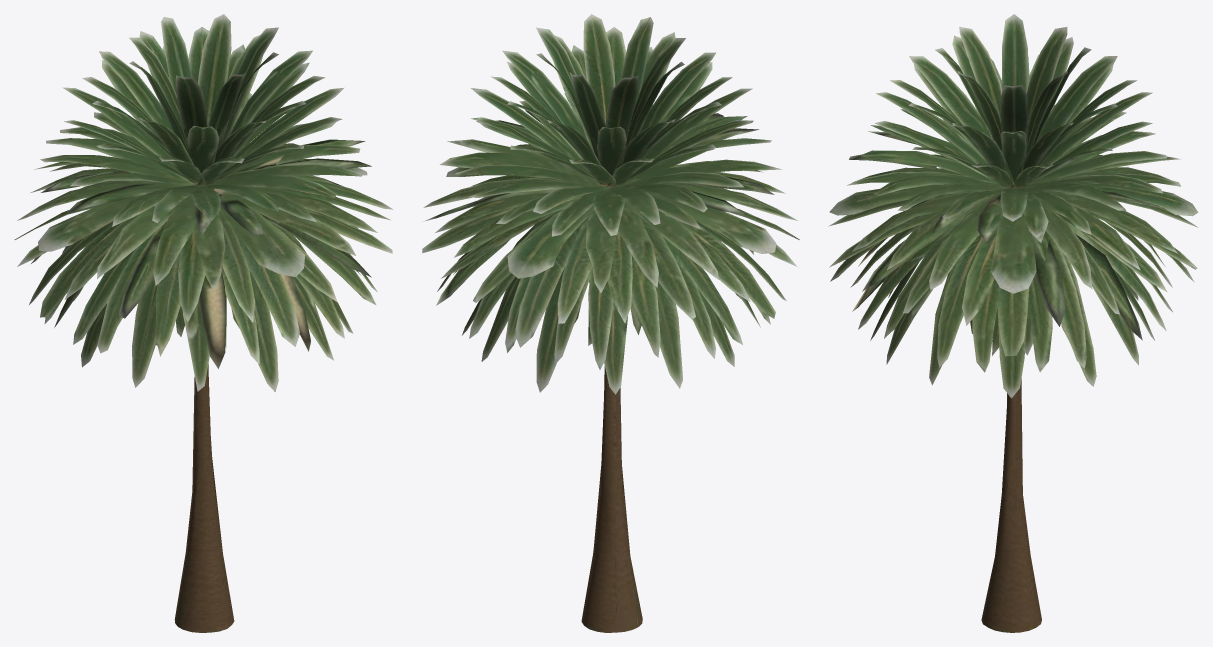
File: meshy-coastal-palm.glb
3 renders of one model, left to right at view 1: azimuth 30°, elevation 25°; view 2: azimuth 150°, elevation 25°; view 3: azimuth 270°, elevation 25°, orthographic.
Bounding box in the file's own units: 0.6 × 1 × 0.5892.
Materials: 1 (1 with a texture image).
